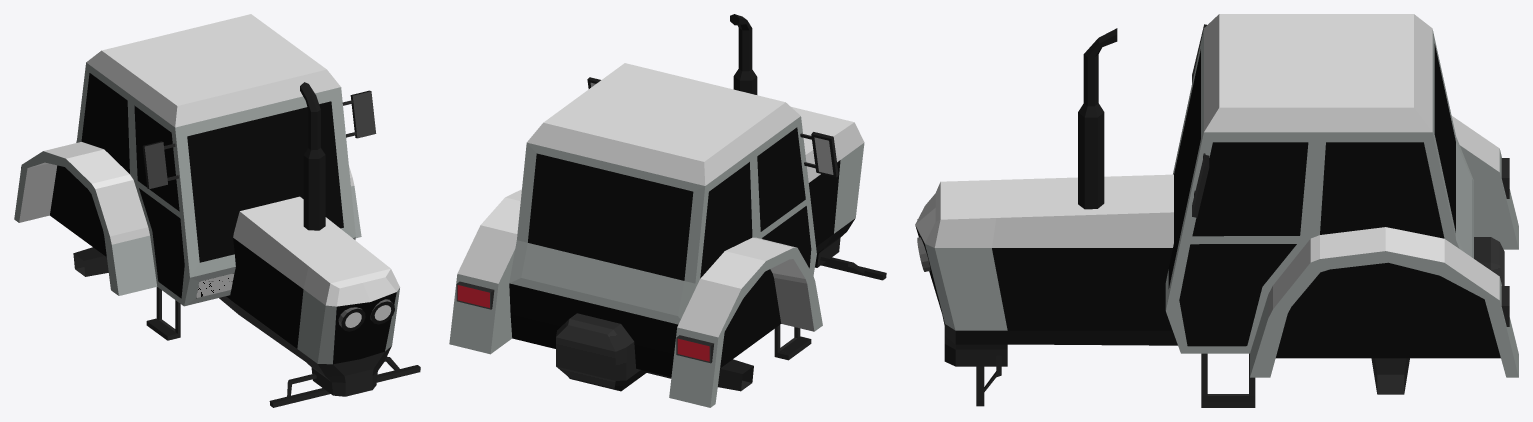
The model's file is Tractor.fbx.
3 renders of one model, left to right at view 1: azimuth 30°, elevation 25°; view 2: azimuth 150°, elevation 25°; view 3: azimuth 270°, elevation 25°, orthographic. The views are drawn at different scales.
Parts seen in each view (by area): view 1: Tractor; view 2: Tractor; view 3: Tractor.
Part boxes in pixels (x1,y1,x2,y2): Tractor: [14, 14, 420, 407]; Tractor: [449, 14, 886, 407]; Tractor: [915, 14, 1518, 407].
Size of the model in its own units: 2.11 by 2.2 by 3.54.
